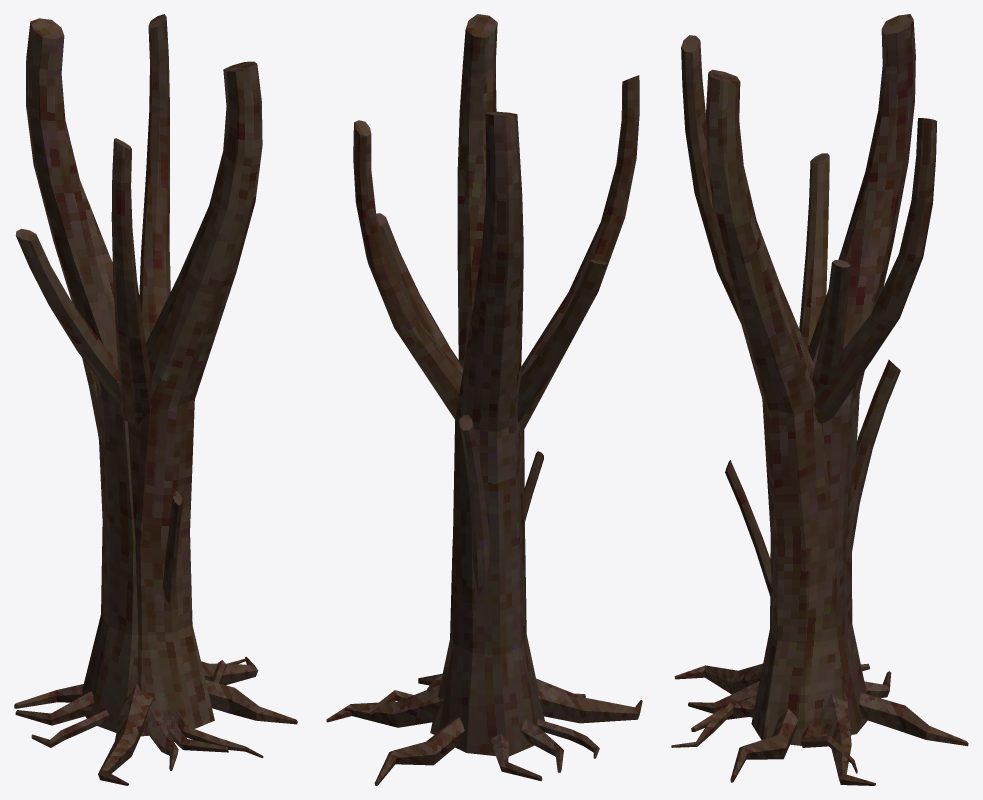
File: deadTree2.glb
The picture shows the model from 3 angles, left to right: view 1: azimuth 30°, elevation 25°; view 2: azimuth 150°, elevation 25°; view 3: azimuth 270°, elevation 25°; orthographic projection.
Visible parts, largest first — view 1: deadTree1; view 2: deadTree1; view 3: deadTree1.
Boxes of the visible parts, left/top/right/bottom form: deadTree1: left=14, top=14, right=297, bottom=785; deadTree1: left=326, top=14, right=642, bottom=785; deadTree1: left=671, top=14, right=968, bottom=785.
Size of the model in its own units: 4.74 by 11.97 by 4.73.
1 material, 1 textured.
